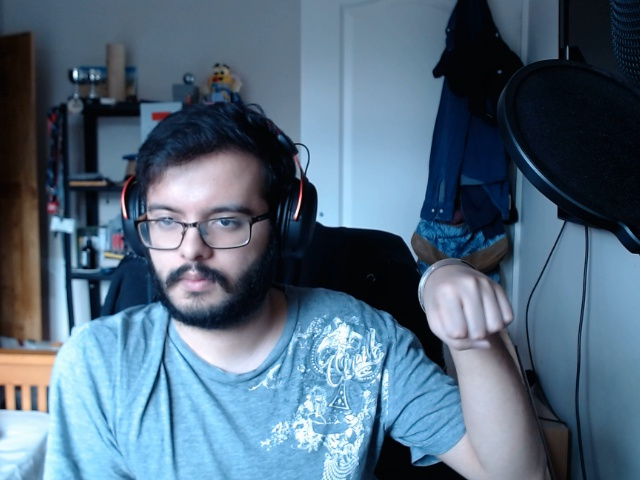Yes: (421, 259, 521, 351)
